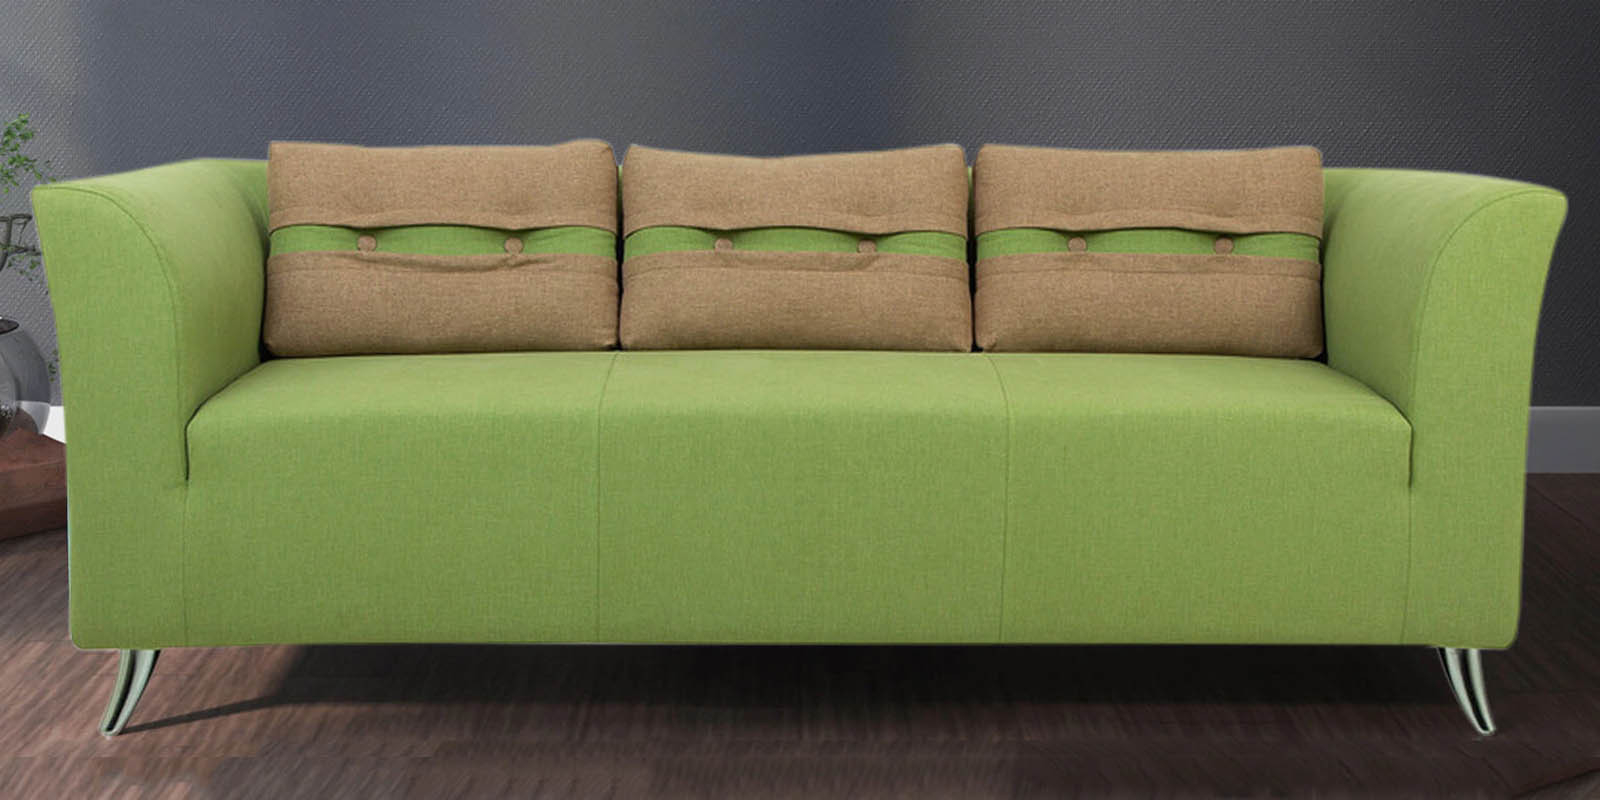Iowa Three Seater Sofa in Pear Green Colour by Furnitech: (24, 124, 1563, 756)
